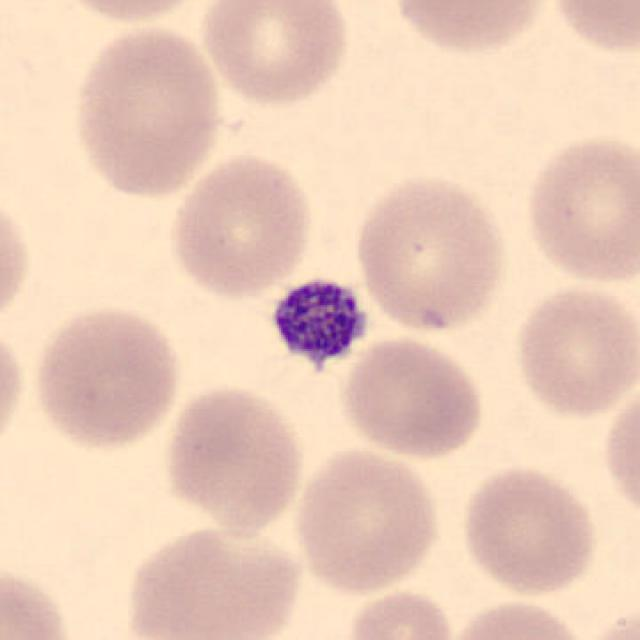Platelets: (258, 262, 372, 371)
RBC: (68, 19, 226, 201), (348, 167, 512, 337), (27, 300, 185, 455), (158, 379, 308, 538), (290, 442, 444, 596), (164, 148, 318, 302), (119, 518, 306, 640), (457, 462, 601, 598), (336, 333, 487, 462), (519, 129, 638, 289), (508, 278, 636, 422), (195, 0, 354, 111), (385, 0, 554, 56), (0, 557, 82, 640), (597, 377, 640, 531), (444, 596, 590, 640), (345, 585, 457, 640), (542, 0, 638, 60), (0, 183, 34, 335), (48, 0, 213, 28), (0, 316, 30, 466), (574, 603, 638, 640)
